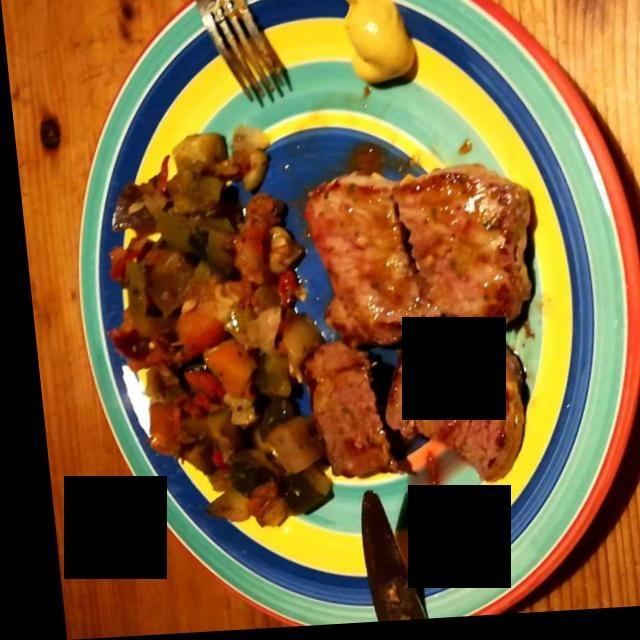beef: (301, 171, 550, 502)
ratatouille: (89, 115, 319, 543)
